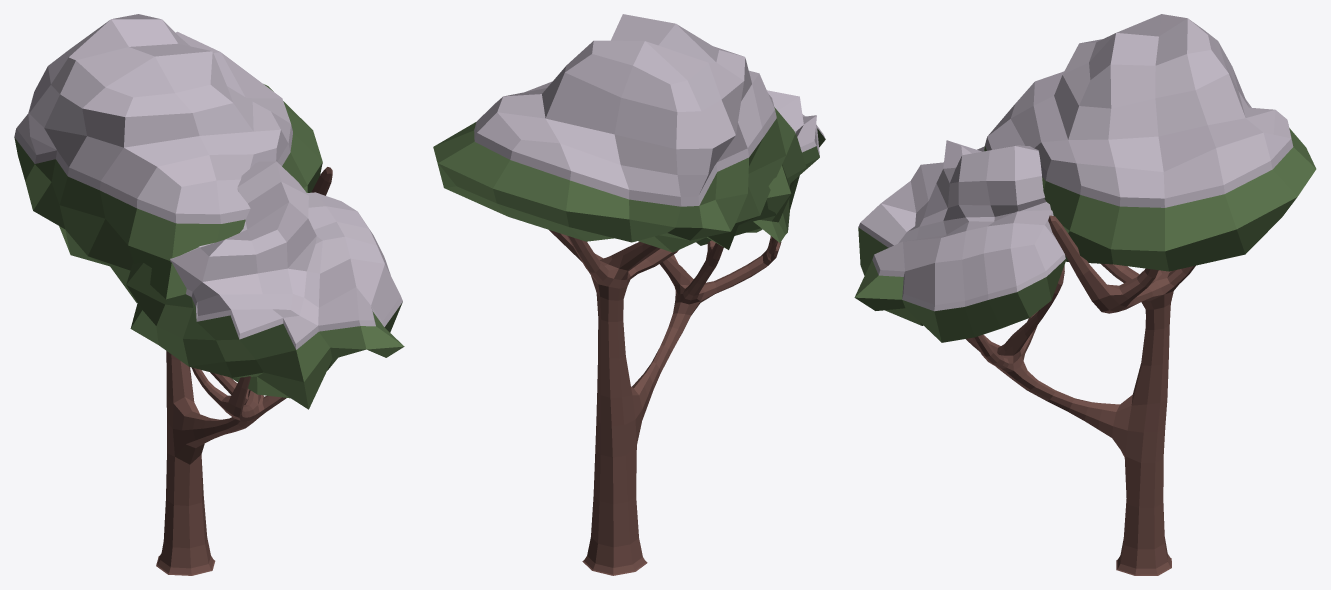
The model's file is commontree_snow_2.glb.
3 views of the same model, side by side, from view 1: azimuth 30°, elevation 25°; view 2: azimuth 150°, elevation 25°; view 3: azimuth 270°, elevation 25° (orthographic). The views are drawn at different scales.
Visible parts, largest first — view 1: CommonTree_Snow_2; view 2: CommonTree_Snow_2; view 3: CommonTree_Snow_2.
Part boxes in pixels (x1,y1,x2,y2): CommonTree_Snow_2: (14, 14, 404, 575); CommonTree_Snow_2: (433, 14, 825, 575); CommonTree_Snow_2: (854, 14, 1316, 575).
Size of the model in its own units: 3.99 by 7.6 by 6.1.
